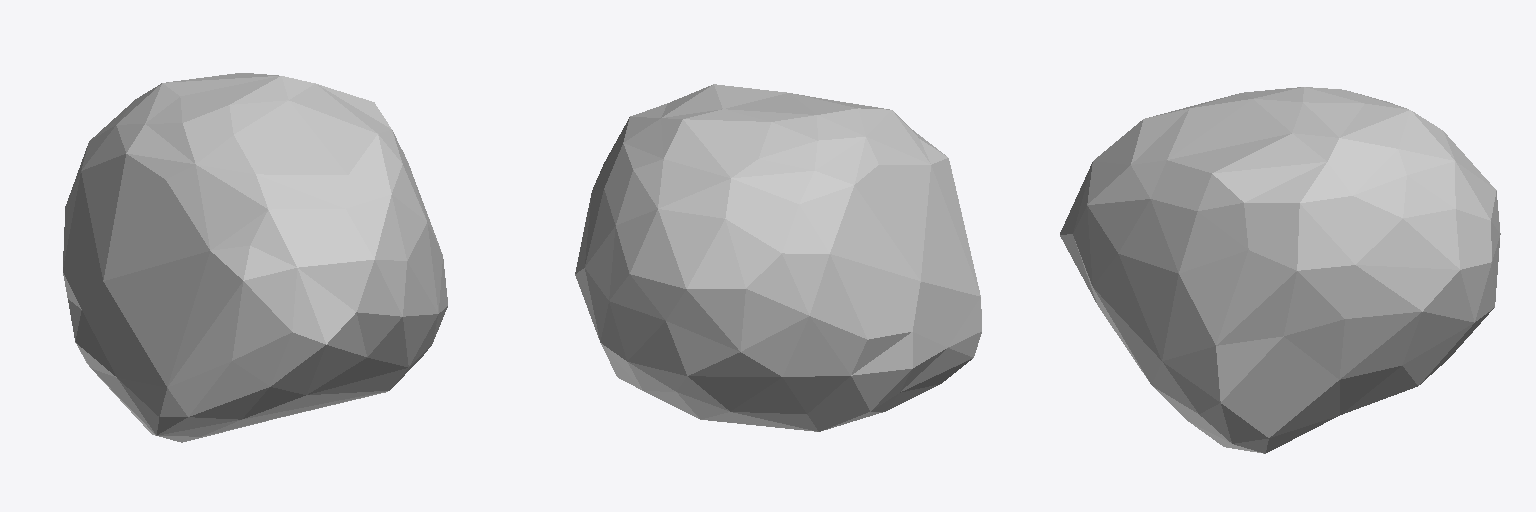
The model's file is ROck.obj.
The picture shows the model from 3 angles: view 1: azimuth 30°, elevation 25°; view 2: azimuth 150°, elevation 25°; view 3: azimuth 270°, elevation 25°; orthographic projection.
Parts seen in each view (by area): view 1: Sphere; view 2: Sphere; view 3: Sphere.
Part boxes in pixels (bbox=[...]): Sphere: bbox=[63, 73, 447, 442]; Sphere: bbox=[575, 84, 981, 431]; Sphere: bbox=[1060, 87, 1500, 453].
Size of the model in its own units: 0.5865 by 0.5037 by 0.6886.